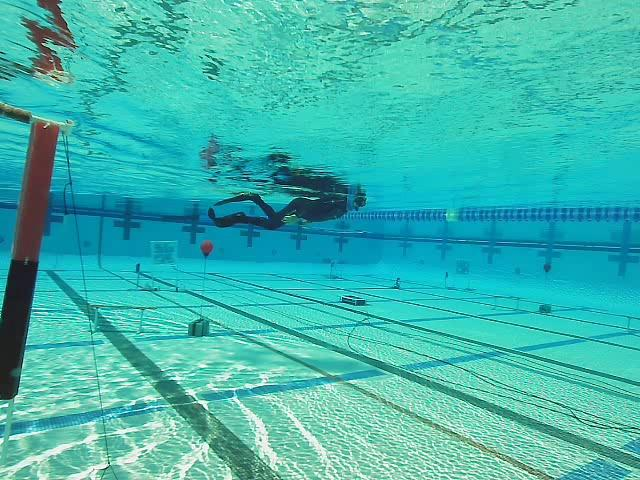buoy: (199, 241, 215, 260)
torpedo: (151, 241, 176, 265)
